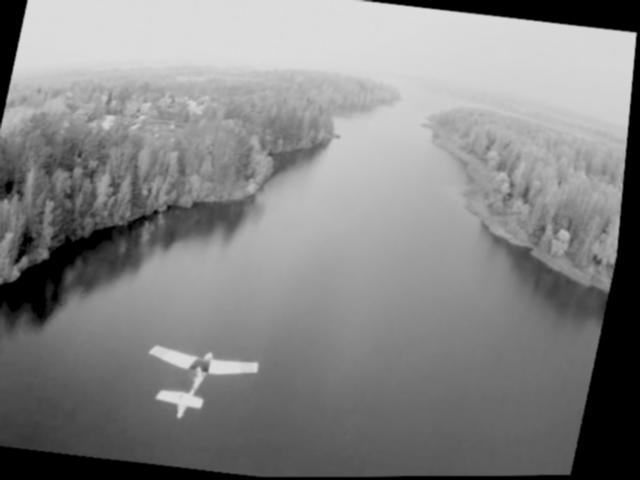hedef: (133, 328, 275, 433)
